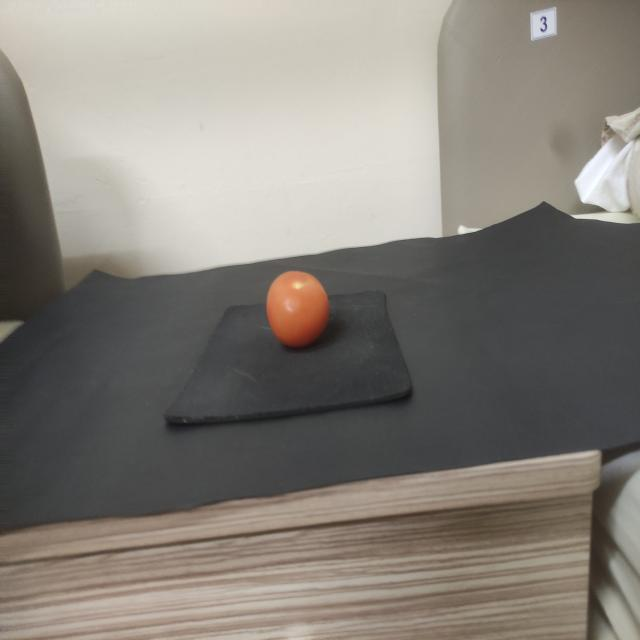sari: (256, 260, 343, 358)
